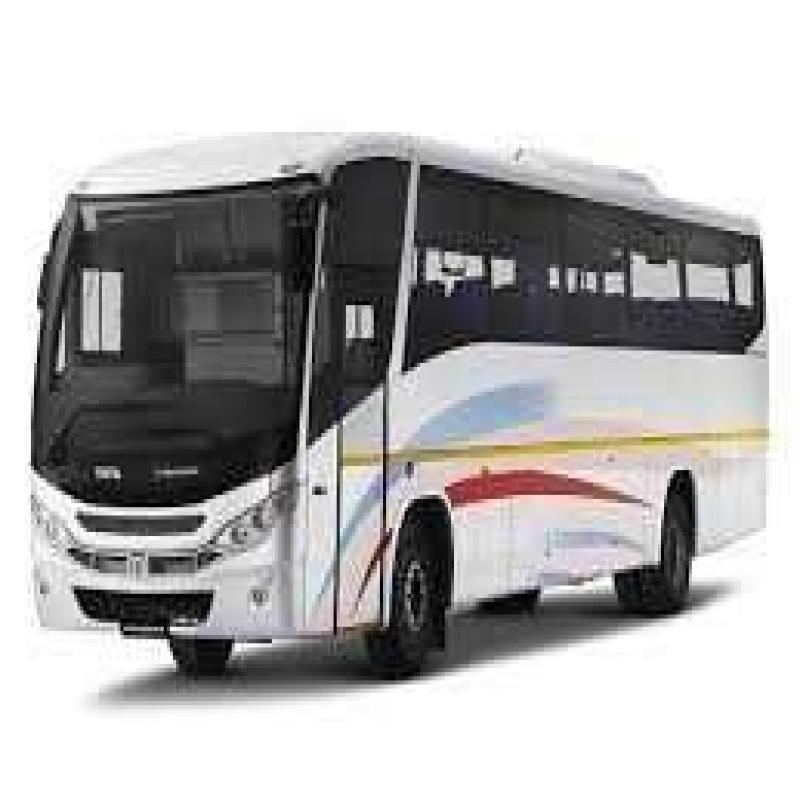bus: (22, 100, 780, 693)
